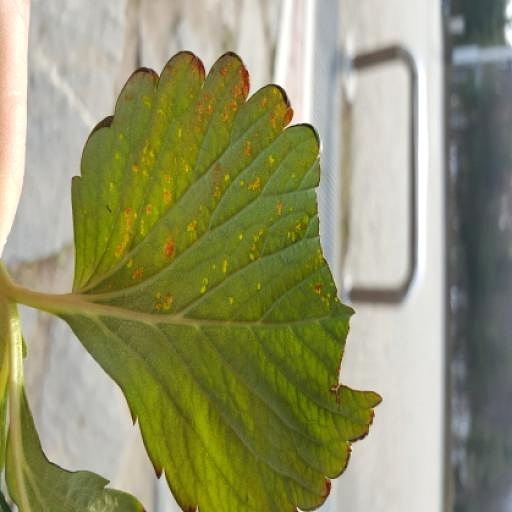Angular Leafspot: (162, 196, 432, 463)
